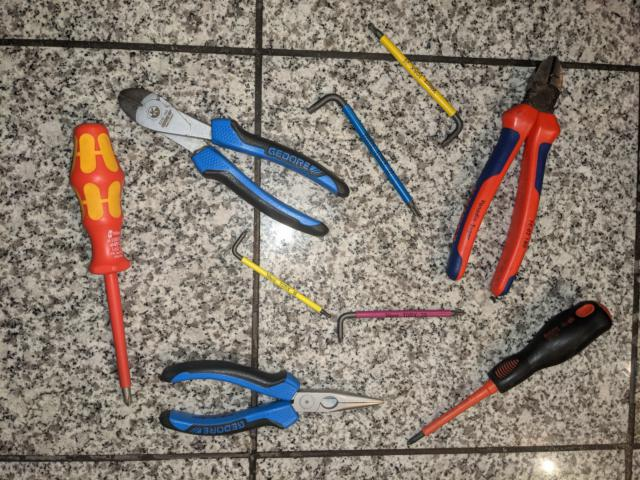Inbusschlüssel: (306, 91, 426, 221), (361, 19, 467, 151), (229, 228, 336, 321), (335, 306, 466, 346)
Schraubendreher: (402, 291, 616, 448), (64, 118, 138, 410)
Seitenschneider: (117, 86, 352, 242), (441, 53, 567, 298)
Zange: (156, 354, 385, 438)
